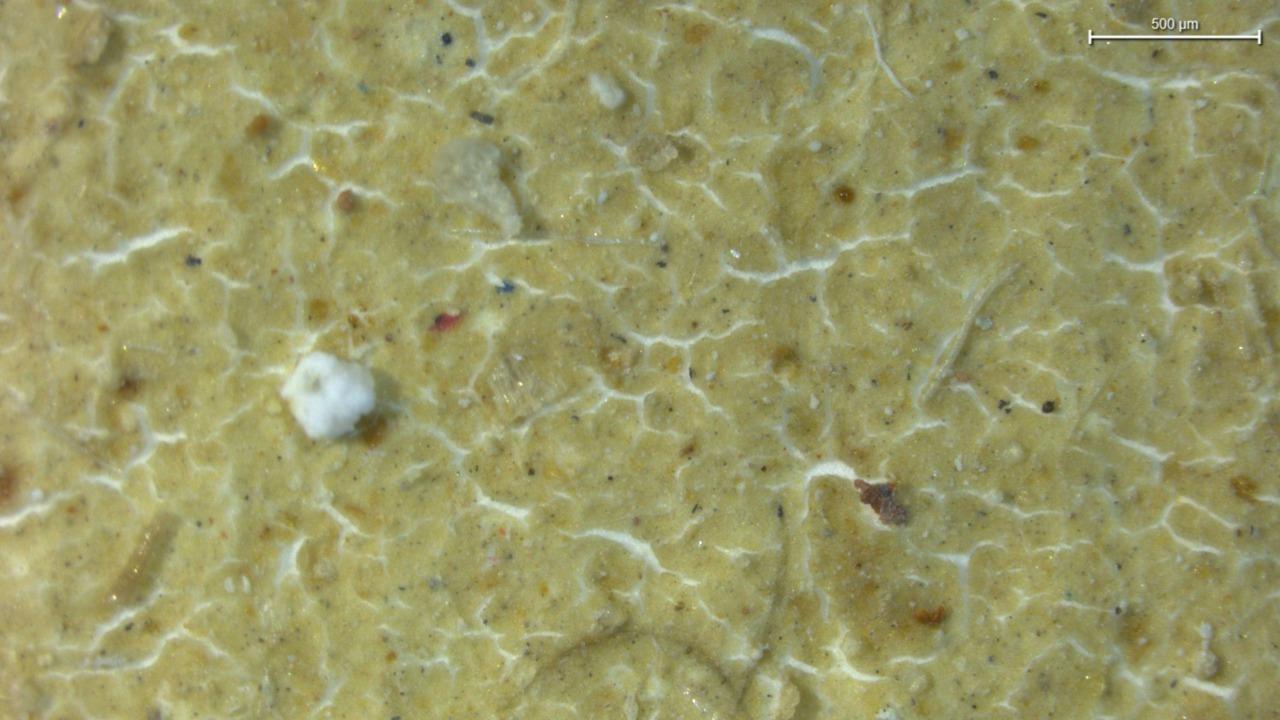microplastic_fragment: (280, 351, 376, 442), (433, 138, 518, 238)
